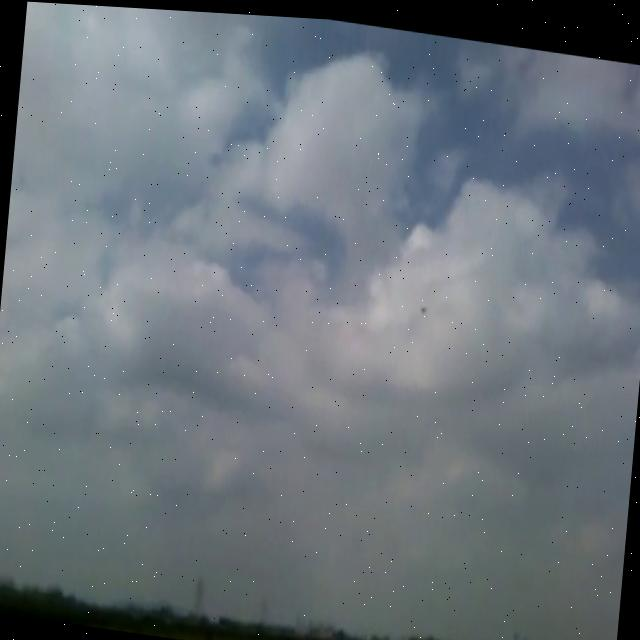drone: (414, 292, 428, 312)
